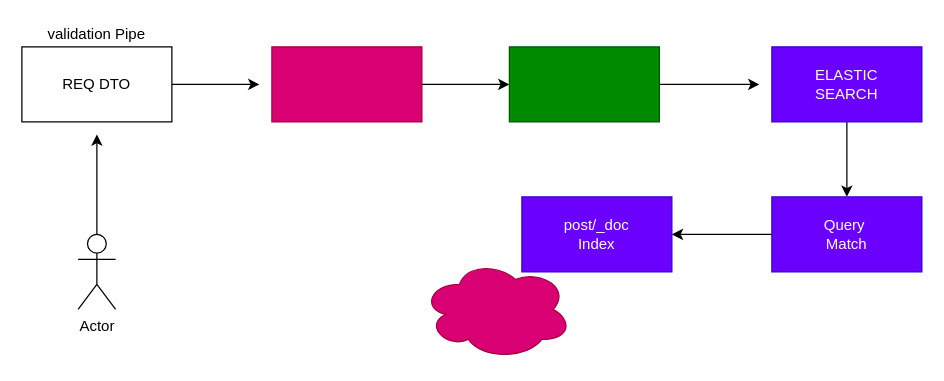
Some shapes in this 944 by 381 pixel diagram are drawn without their labels. Here are the shapes that lost their labels. From the top down, the box of each, then its label:
(271, 46, 422, 122): CONTROLLER
(508, 46, 659, 122): SERVICE
(421, 258, 572, 359): Schema Mapping
